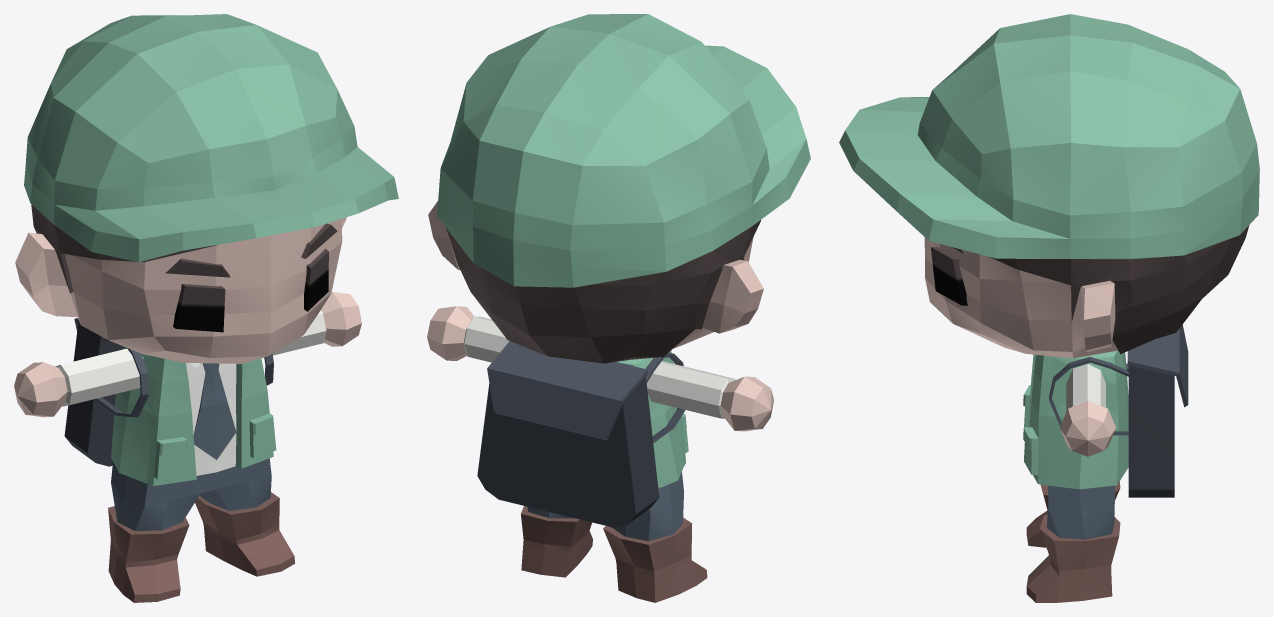
Rendered from new_editor_bag.fbx.
3 views of the same model, side by side, from view 1: azimuth 30°, elevation 25°; view 2: azimuth 150°, elevation 25°; view 3: azimuth 270°, elevation 25° (orthographic).
Parts seen in each view (by area): view 1: editor; view 2: editor; view 3: editor.
Boxes of the visible parts, box(x1,y1,x2,y2) form: editor: box(14, 14, 398, 602); editor: box(427, 14, 810, 602); editor: box(839, 14, 1259, 602).
Bounding box in the file's own units: 0.8964 × 1.35 × 0.9732.
Materials: 1 (1 with a texture image).
